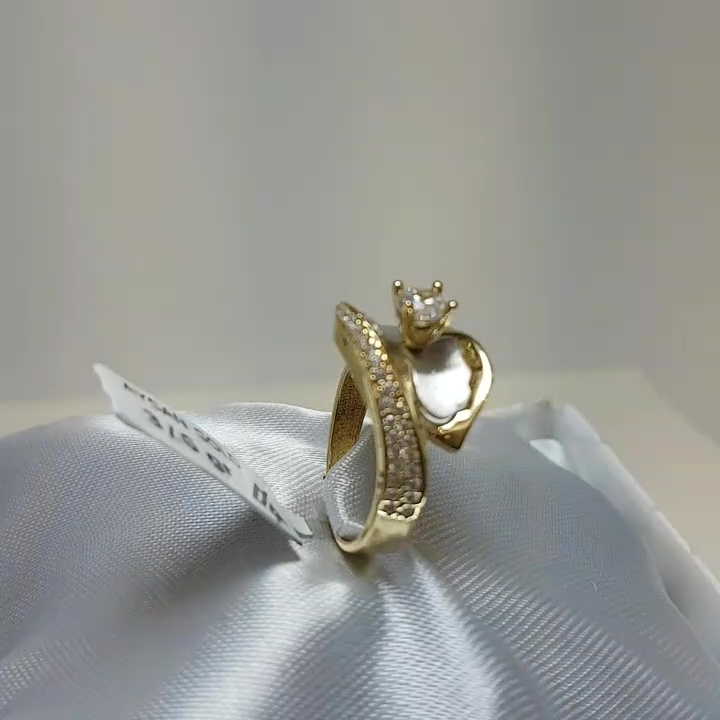Ring 6: (272, 265, 511, 568)
